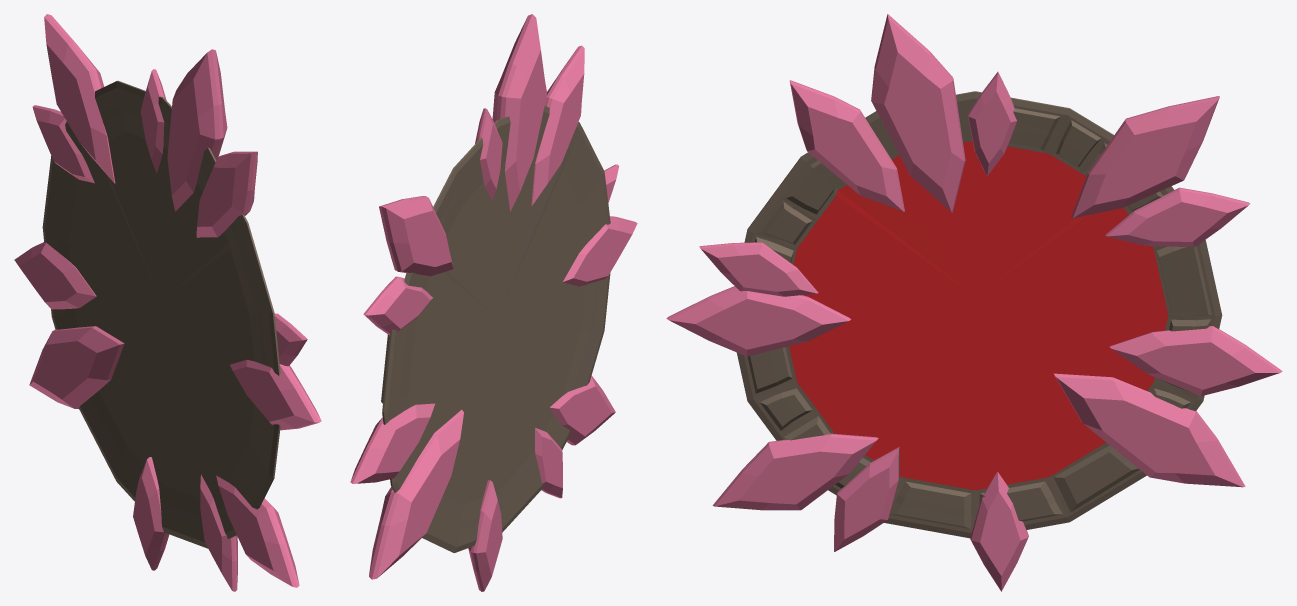
The model's file is V1.portal.fbx.
The picture shows the model from 3 angles, left to right: view 1: azimuth 30°, elevation 25°; view 2: azimuth 150°, elevation 25°; view 3: azimuth 270°, elevation 25°; orthographic projection. The views are drawn at different scales.
Visible parts, largest first — view 1: Cylinder; view 2: Cylinder; view 3: Cylinder.
Boxes of the visible parts, x1,y1,x2,y2 form: Cylinder: [14, 14, 321, 591]; Cylinder: [350, 14, 637, 591]; Cylinder: [666, 14, 1282, 591].
Size of the model in its own units: 16.01 by 257 by 248.
